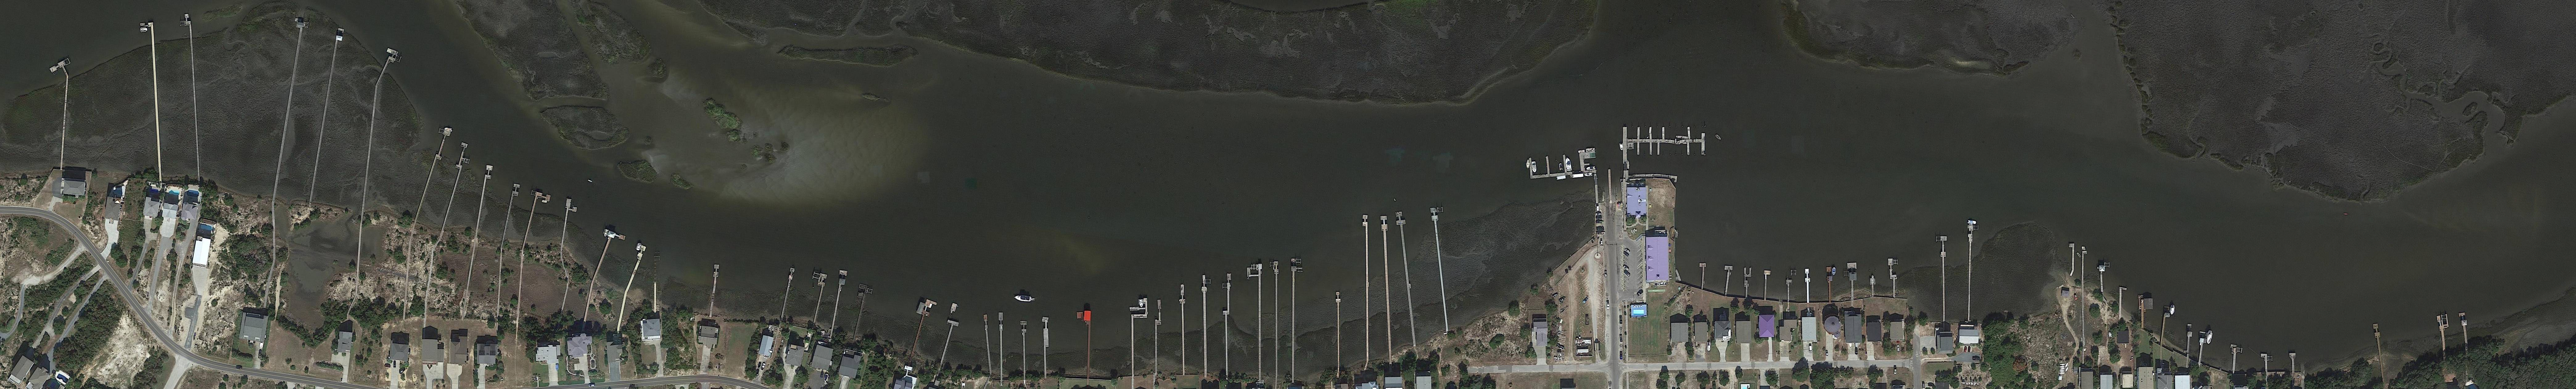harbor: (268, 18, 309, 199), (309, 28, 345, 202), (407, 126, 452, 220), (179, 13, 200, 179), (140, 23, 161, 174), (437, 141, 473, 230), (1395, 212, 1419, 338), (1431, 205, 1454, 318), (1623, 126, 1705, 156), (902, 297, 938, 363), (588, 230, 626, 289), (361, 85, 378, 212), (517, 190, 552, 249), (1528, 151, 1597, 179), (935, 302, 963, 368), (1380, 215, 1393, 345), (1247, 264, 1262, 376), (370, 48, 404, 90), (1290, 259, 1303, 368), (1129, 297, 1147, 376), (1965, 225, 1980, 318), (846, 284, 872, 336), (802, 271, 828, 323), (619, 243, 646, 294), (475, 164, 493, 236), (501, 184, 521, 246), (1074, 310, 1091, 378), (1935, 235, 1948, 318), (1270, 261, 1280, 371), (559, 199, 578, 253), (830, 269, 848, 327), (1222, 274, 1232, 364), (1362, 215, 1368, 345), (1178, 284, 1188, 368), (1201, 276, 1209, 368), (61, 77, 69, 169), (2372, 323, 2385, 379), (780, 268, 795, 317), (2436, 313, 2453, 356), (49, 57, 76, 84), (708, 264, 720, 315), (1153, 300, 1161, 368), (2159, 307, 2172, 346), (2137, 295, 2152, 330), (2458, 312, 2471, 350), (1336, 292, 1342, 366), (1042, 317, 1050, 374), (984, 315, 992, 371), (1020, 320, 1028, 374), (2195, 332, 2208, 363), (1888, 259, 1898, 297), (2229, 345, 2242, 373), (1848, 263, 1858, 299), (1722, 266, 1733, 295), (999, 312, 1004, 376), (2100, 263, 2109, 294), (2118, 287, 2126, 317), (1743, 268, 1751, 297), (1763, 271, 1771, 300), (1699, 263, 1707, 291), (1827, 268, 1833, 302), (2187, 323, 2193, 356), (2081, 251, 2086, 294), (2262, 353, 2272, 371), (2068, 243, 2075, 269), (2288, 353, 2297, 373), (1806, 269, 1810, 302), (1786, 279, 1792, 302), (1870, 276, 1876, 297)
ship: (1564, 158, 1572, 172), (1014, 295, 1032, 302), (2206, 332, 2215, 345), (1531, 161, 1536, 172)
